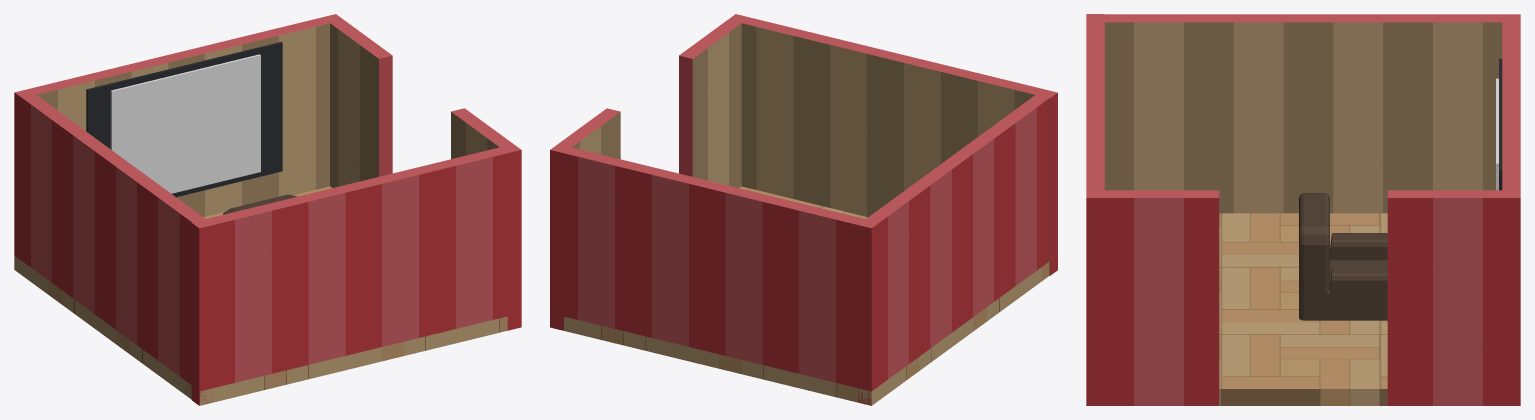
Rendered from Room_Lv01.fbx.
3 views of the same model, side by side, from view 1: azimuth 30°, elevation 25°; view 2: azimuth 150°, elevation 25°; view 3: azimuth 270°, elevation 25° (orthographic). The views are drawn at different scales.
Visible parts, largest first — view 1: M_Room, Screen; view 2: M_Room; view 3: M_Room, Cube.003, Screen.
Part boxes in pixels (x1,y1,x2,y2): M_Room: (14, 14, 521, 405); Screen: (86, 42, 282, 197); M_Room: (550, 14, 1057, 405); M_Room: (1086, 14, 1520, 405); Cube.003: (1299, 193, 1387, 320); Screen: (1496, 58, 1502, 190).
Size of the model in its own units: 1403 by 739 by 1400.
